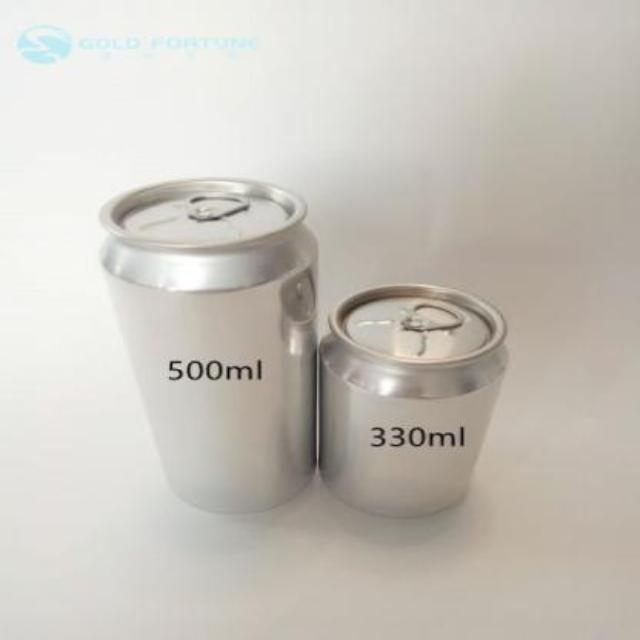metal: (98, 177, 314, 509), (318, 283, 505, 514)
